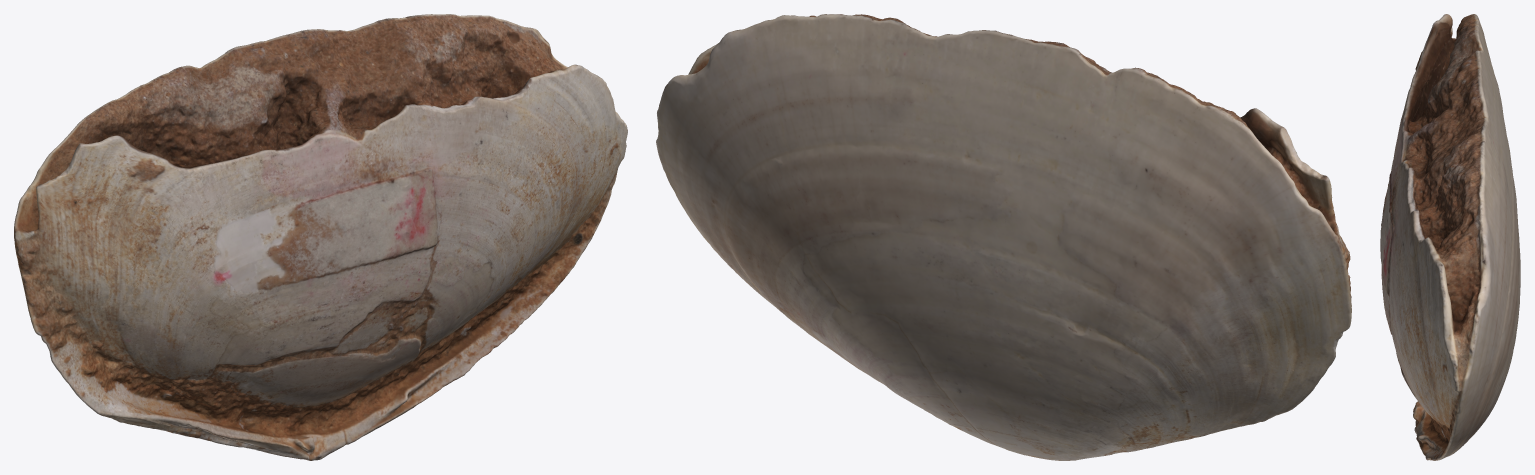
Rendered from EWS0012663.glb.
3 renders of one model, left to right at view 1: azimuth 30°, elevation 25°; view 2: azimuth 150°, elevation 25°; view 3: azimuth 270°, elevation 25°, orthographic. The views are drawn at different scales.
Visible parts, largest first — view 1: input; view 2: input; view 3: input.
Boxes of the visible parts, bbox=[...] form: input: bbox=[14, 14, 627, 460]; input: bbox=[656, 14, 1351, 460]; input: bbox=[1380, 14, 1520, 460].
Bounding box in the file's own units: 0.0388 × 0.0243 × 0.00858.
1 material, 1 textured.
